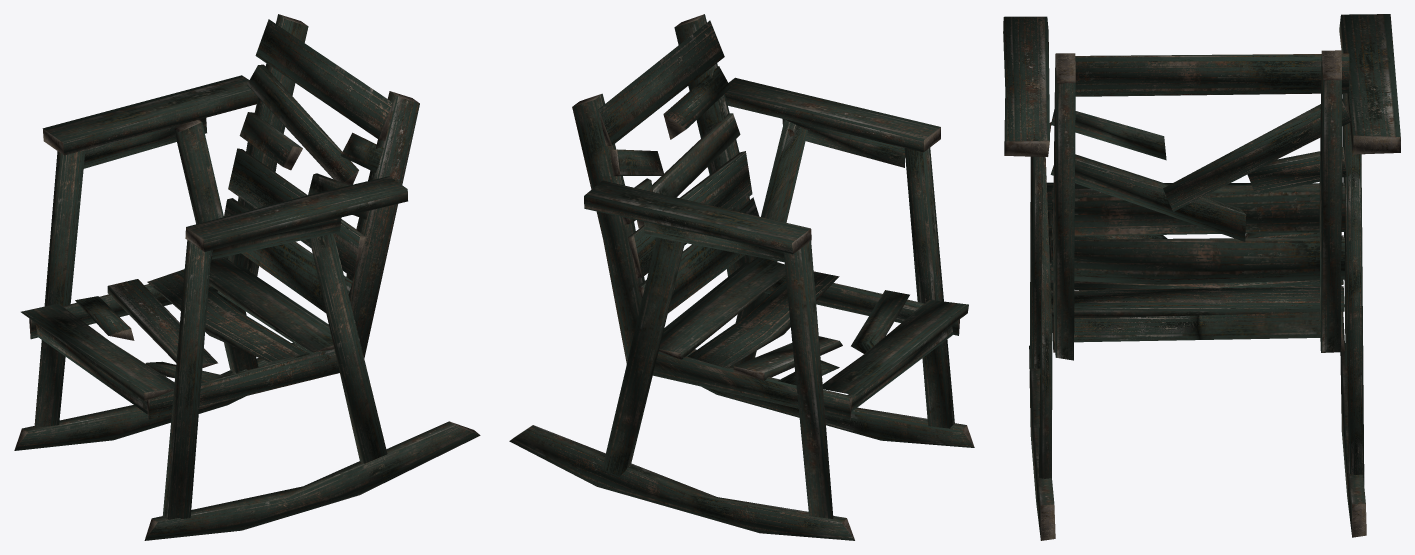
The model's file is rocking_chair_broken.fbx.
3 views of the same model, side by side, from view 1: azimuth 30°, elevation 25°; view 2: azimuth 150°, elevation 25°; view 3: azimuth 270°, elevation 25° (orthographic). The views are drawn at different scales.
Visible parts, largest first — view 1: SM_Rocking_Chair_Broken; view 2: SM_Rocking_Chair_Broken; view 3: SM_Rocking_Chair_Broken.
Part boxes in pixels (bbox=[...]): SM_Rocking_Chair_Broken: bbox=[14, 14, 480, 540]; SM_Rocking_Chair_Broken: bbox=[509, 14, 974, 540]; SM_Rocking_Chair_Broken: bbox=[1003, 14, 1400, 540].
Size of the model in its own units: 6.99 by 7.51 by 5.62.
